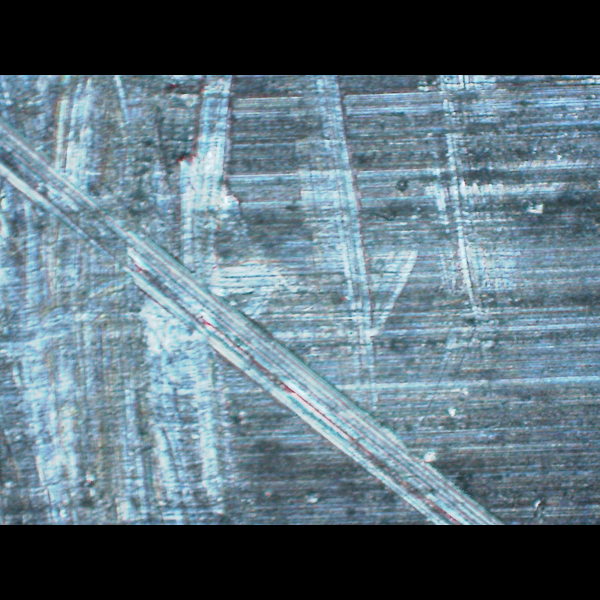d: (1, 77, 237, 525), (288, 78, 545, 385), (266, 358, 518, 525)
